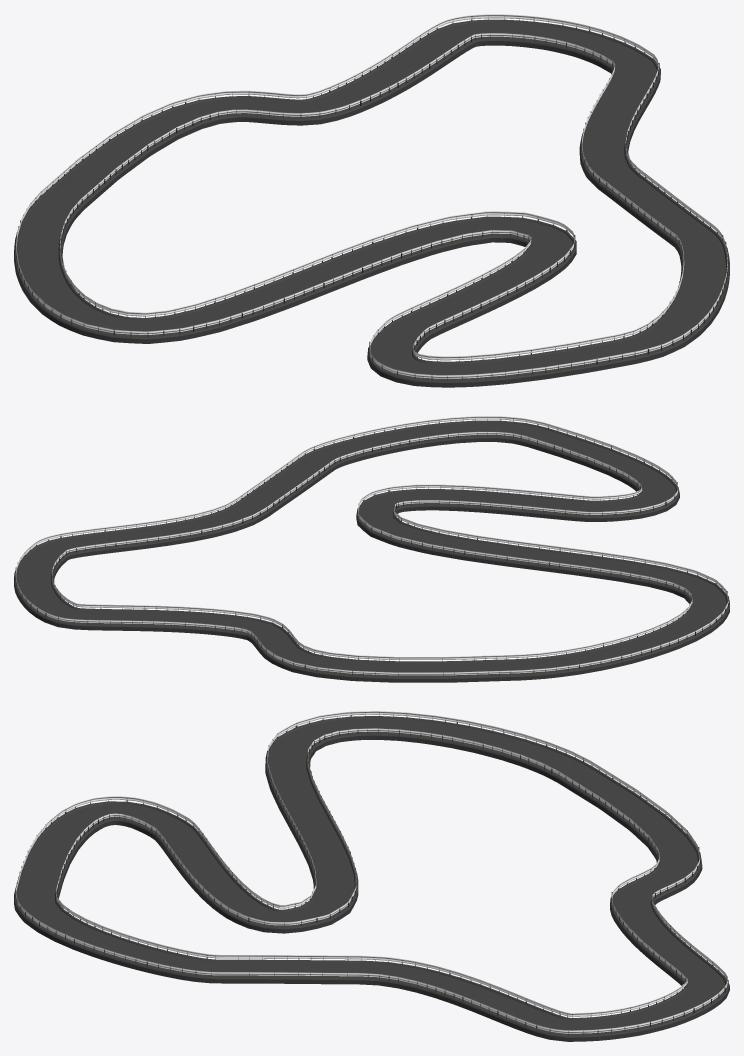
Rendered from game-track.glb.
3 renders of one model, top to bottom at view 1: azimuth 30°, elevation 25°; view 2: azimuth 150°, elevation 25°; view 3: azimuth 270°, elevation 25°, orthographic. The views are drawn at different scales.
Parts seen in each view (by area): view 1: track; view 2: track; view 3: track.
Part boxes in pixels (bbox=[...]): track: bbox=[14, 14, 729, 387]; track: bbox=[14, 416, 729, 682]; track: bbox=[14, 711, 729, 1041].
Size of what is drawn, in the model's own units: 29.88 by 0.4678 by 28.17.
Materials: 2 (1 with a texture image).
